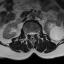CCS_normal: (31, 30, 33, 40)
LFS_normal: (35, 30, 37, 36)
LLS_normal: (33, 30, 35, 37)
RFS_normal: (26, 30, 28, 36)
RLS_normal: (28, 30, 31, 37)
